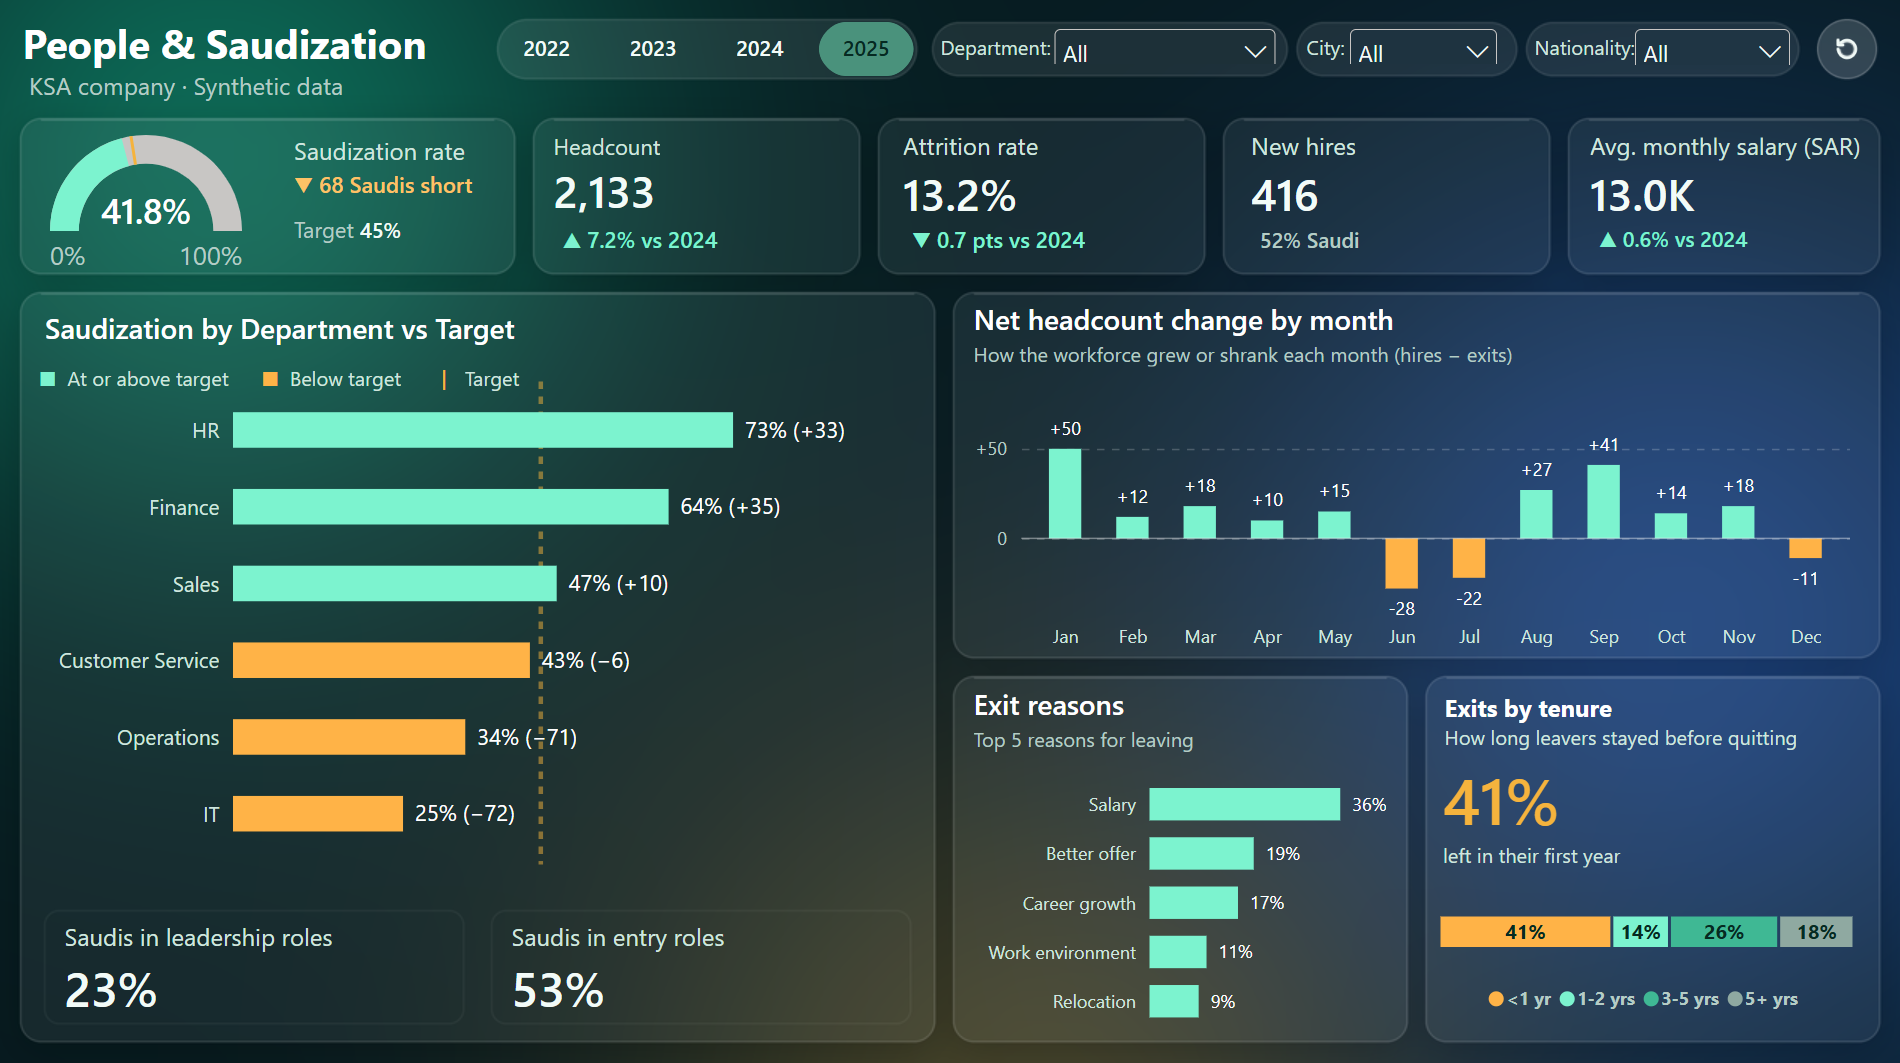

What the dashboard file says about the page in this screenshot:
{"tool":"powerbi","page":{"name":"Page 1","canvas":[1280,720],"ordinal":0},"visuals":[{"type":"advancedSlicerVisual","fields":{"Values":["Dim_Date.Year"]},"box":[340,18.1,276.6,36.2],"z":0},{"type":"slicer","fields":{"Values":["Dim_Department.Department"]},"box":[705,18.1,156.9,28.2],"z":1},{"type":"slicer","fields":{"Values":["Dim_Location.City"]},"box":[902,18.1,107.6,28.2],"z":2},{"type":"slicer","fields":{"Values":["Employees.NationalityGroup"]},"box":[1092,18,112.6,29.2],"z":3},{"type":"textbox","box":[634,25,76.4,22.1],"z":4},{"type":"textbox","box":[878,25,35.2,22.1],"z":5},{"type":"textbox","box":[1029.9,25.1,71.4,29.2],"z":6},{"type":"textbox","box":[22,14,324.9,64.4],"z":7},{"type":"cardVisual","fields":{"Data":["Employees.Headcount"]},"box":[362.1,92.5,218,104],"z":8},{"type":"cardVisual","fields":{"Data":["Employees.Attrition Rate"]},"box":[595.4,92.5,218,104],"z":9},{"type":"cardVisual","fields":{"Data":["Employees.Hires"]},"box":[826.7,92.5,218,104],"z":10},{"type":"cardVisual","fields":{"Data":["Employees.Avg Monthly Salary"]},"box":[1053,92.5,211.2,103.6],"z":11},{"type":"gauge","fields":{"TargetValue":["Employees.Saudization Target"],"Y":["Employees.Saudization %"]},"box":[24.1,40.2,159.9,206.2],"z":12},{"type":"cardVisual","fields":{"Data":["Employees.Saudi Gap Label"]},"box":[187.1,83.7,153,122],"z":13},{"type":"clusteredBarChart","title":"Saudization by Department vs Target","fields":{"Category":["Employees.Department"],"Y":["Employees.Saudization %"]},"box":[20.7,195.4,613.5,400.3],"z":14},{"type":"textbox","box":[33.2,246.4,321.8,25.1],"z":15},{"type":"cardVisual","fields":{"Data":["Employees.Saudization Leadership %"]},"box":[36,612,280,76],"z":16},{"type":"cardVisual","fields":{"Data":["Employees.Saudization Entry %"]},"box":[333.9,611.5,279.6,76.4],"z":17},{"type":"clusteredColumnChart","title":"Net headcount change by month","fields":{"Category":["Dim_Date.MonthName"],"Y":["Employees.Net Change"]},"box":[639.7,189.1,616.5,267.5],"z":18},{"type":"clusteredBarChart","title":"Exit reasons","fields":{"Category":["Employees.ExitReason"],"Y":["Employees.Exit Share"]},"box":[639.7,445.6,307.8,253.5],"z":19},{"type":"textbox","box":[970,464,248,42],"z":20},{"type":"cardVisual","fields":{"Data":["Employees.First-Year Exit %"]},"box":[955.5,496.9,148.9,95.5],"z":21},{"type":"hundredPercentStackedBarChart","fields":{"Series":["Employees.ExitTenureBand"],"Y":["Employees.Exits"]},"box":[951.5,572.3,306.8,126.7],"z":22},{"type":"image","box":[1218,16,40,40],"z":23}]}

Visuals, with their boxes in screenshot pixels (x1, y1, x2, y2), scaled from the page's 1280x720 canvas onto the 1900x1063 screenshot:
advancedSlicerVisual - Dim_Date.Year: locate(505, 27, 915, 80)
slicer - Dim_Department.Department: locate(1046, 27, 1279, 68)
slicer - Dim_Location.City: locate(1339, 27, 1499, 68)
slicer - Employees.NationalityGroup: locate(1621, 27, 1788, 70)
textbox: locate(941, 37, 1054, 70)
textbox: locate(1303, 37, 1356, 70)
textbox: locate(1529, 37, 1635, 80)
textbox: locate(33, 21, 515, 116)
cardVisual - Employees.Headcount: locate(537, 137, 861, 290)
cardVisual - Employees.Attrition Rate: locate(884, 137, 1207, 290)
cardVisual - Employees.Hires: locate(1227, 137, 1551, 290)
cardVisual - Employees.Avg Monthly Salary: locate(1563, 137, 1877, 290)
gauge - Employees.Saudization Target x Employees.Saudization %: locate(36, 59, 273, 364)
cardVisual - Employees.Saudi Gap Label: locate(278, 124, 505, 304)
"Saudization by Department vs Target" clusteredBarChart: locate(31, 288, 941, 879)
textbox: locate(49, 364, 527, 401)
cardVisual - Employees.Saudization Leadership %: locate(53, 904, 469, 1016)
cardVisual - Employees.Saudization Entry %: locate(496, 903, 911, 1016)
"Net headcount change by month" clusteredColumnChart: locate(950, 279, 1865, 674)
"Exit reasons" clusteredBarChart: locate(950, 658, 1406, 1032)
textbox: locate(1440, 685, 1808, 747)
cardVisual - Employees.First-Year Exit %: locate(1418, 734, 1639, 875)
hundredPercentStackedBarChart - Employees.ExitTenureBand x Employees.Exits: locate(1412, 845, 1868, 1032)
image: locate(1808, 24, 1867, 83)
